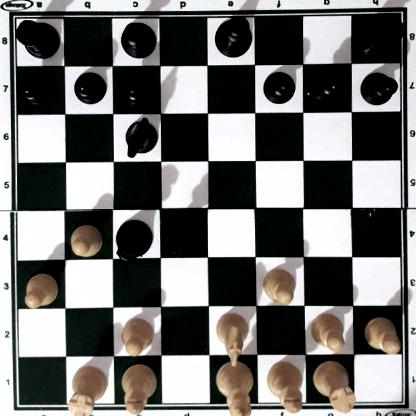black-bishop: (118, 22, 159, 59), (161, 213, 198, 254)
black-king: (212, 14, 253, 55)
black-knight: (123, 116, 156, 155)
black-pawn: (360, 69, 396, 105), (262, 68, 295, 102), (311, 67, 343, 101), (20, 72, 53, 104), (73, 70, 104, 104), (121, 72, 152, 106)
black-queen: (114, 219, 151, 260)
black-rook: (358, 10, 405, 55), (12, 16, 60, 58)
white-bishop: (119, 361, 159, 416), (265, 361, 302, 411)
white-king: (215, 359, 255, 416)
white-knight: (215, 312, 250, 368)
white-pawn: (309, 310, 347, 350), (363, 314, 400, 351), (67, 220, 104, 257), (120, 316, 154, 356), (260, 266, 295, 304), (22, 271, 58, 307)
white-rook: (313, 363, 357, 413), (68, 363, 106, 416)
